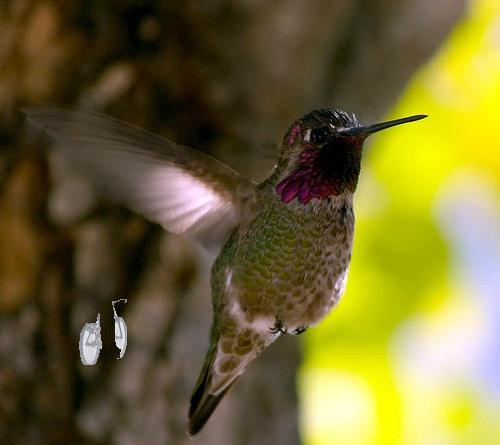tampered: (80, 300, 127, 365)
